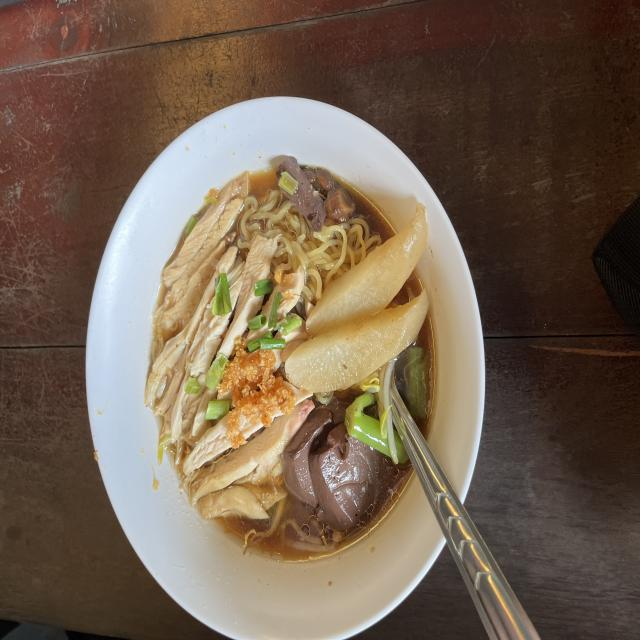noodle: (285, 409, 375, 516)
